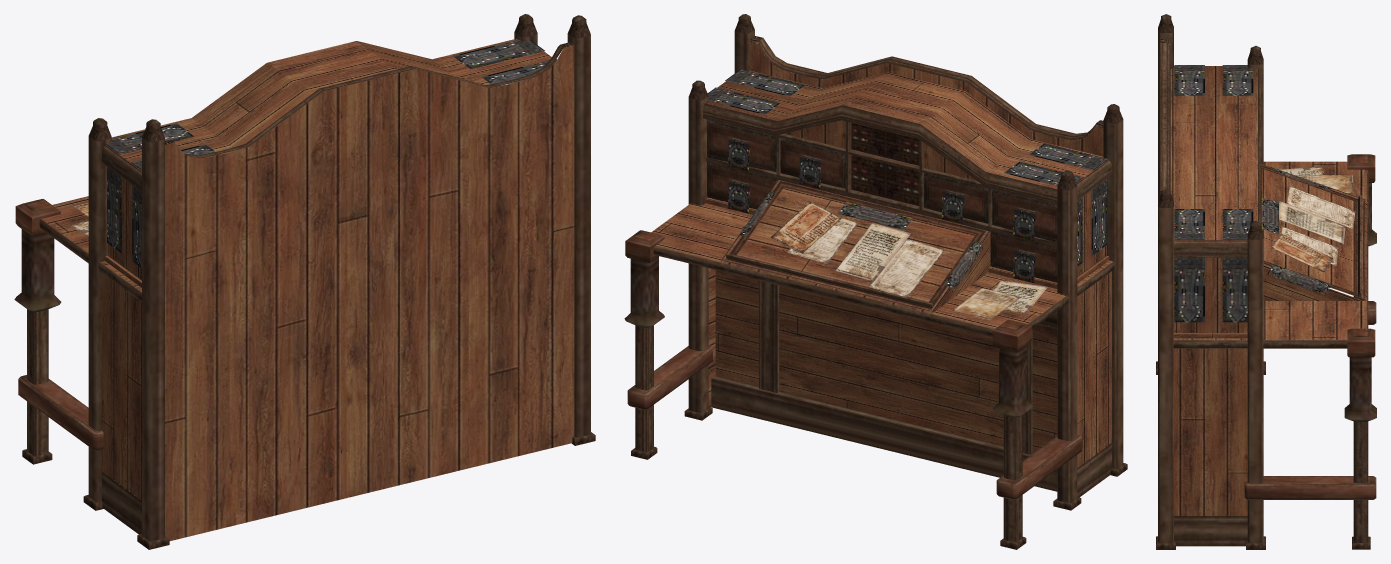
File: o_mdl_env_propFurnitureDeskA_c-transformed.glb
The picture shows the model from 3 angles, left to right: view 1: azimuth 30°, elevation 25°; view 2: azimuth 150°, elevation 25°; view 3: azimuth 270°, elevation 25°; orthographic projection. The views are drawn at different scales.
Visible parts, largest first — view 1: default; view 2: default; view 3: default.
Part boxes in pixels (box(x1,y1,x2,y2)): default: box(14, 14, 595, 549); default: box(624, 14, 1127, 549); default: box(1156, 14, 1376, 549).
Size of the model in its own units: 1.77 by 1.56 by 0.8757.
4 materials, 4 textured.
